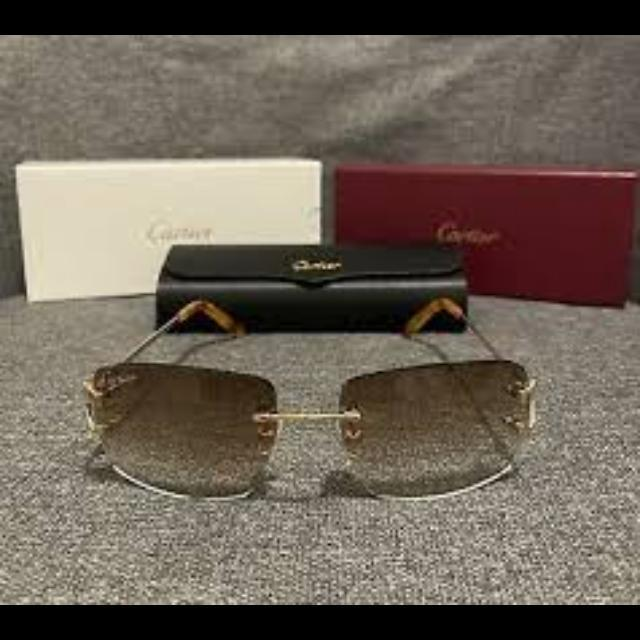sunglasses: (83, 293, 540, 501)
